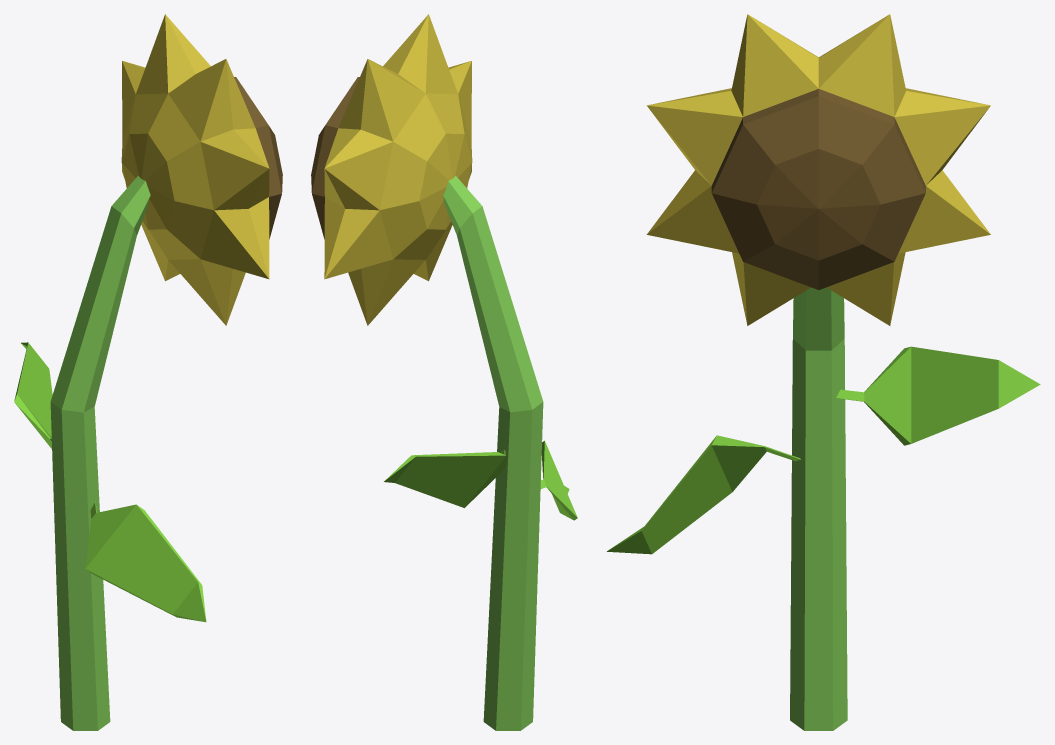
File: sunflower.fbx
3 views of the same model, side by side, from view 1: azimuth 30°, elevation 25°; view 2: azimuth 150°, elevation 25°; view 3: azimuth 270°, elevation 25° (orthographic). The views are drawn at different scales.
Parts seen in each view (by area): view 1: Sphere, Cylinder, Cube; view 2: Sphere, Cylinder, Cube; view 3: Sphere, Cylinder, Cube.
Part boxes in pixels (bbox=[...]): Sphere: bbox=[121, 14, 282, 325]; Cylinder: bbox=[50, 175, 150, 730]; Cube: bbox=[14, 342, 206, 622]; Sphere: bbox=[311, 14, 472, 325]; Cylinder: bbox=[443, 175, 543, 730]; Cube: bbox=[384, 440, 577, 520]; Sphere: bbox=[646, 14, 990, 325]; Cylinder: bbox=[790, 287, 847, 730]; Cube: bbox=[607, 346, 1040, 554].
Size of the model in its own units: 1.05 by 2.06 by 0.697.
